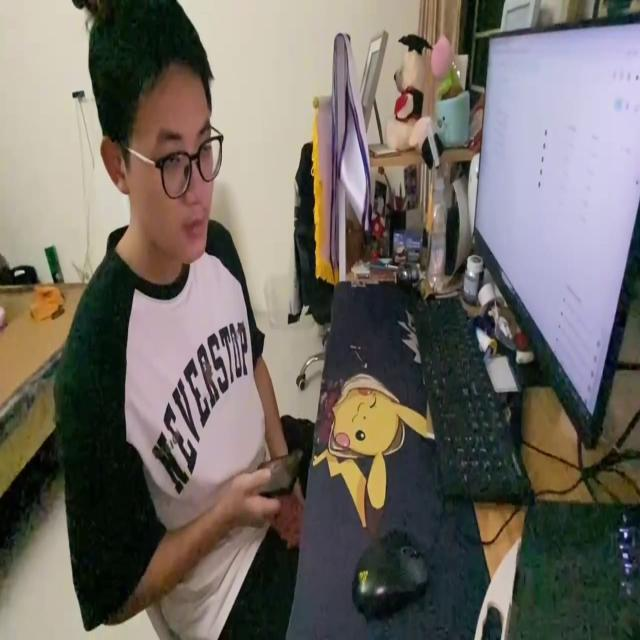laptop: (469, 8, 640, 450)
phone: (251, 447, 305, 494)
student: (55, 2, 309, 596)
